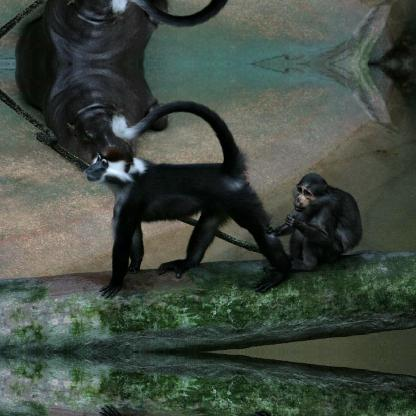Monkey: (82, 100, 294, 298), (260, 162, 358, 272)
